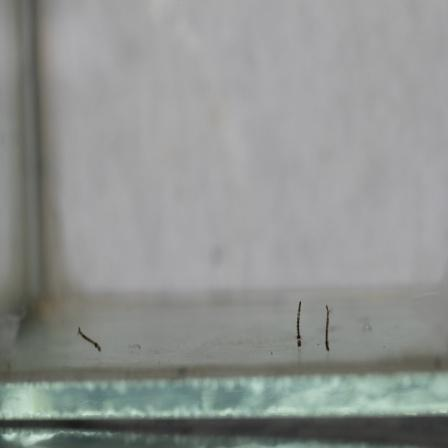Jentik-Nyamuk: (289, 299, 311, 351), (317, 303, 338, 355), (75, 323, 105, 355)
